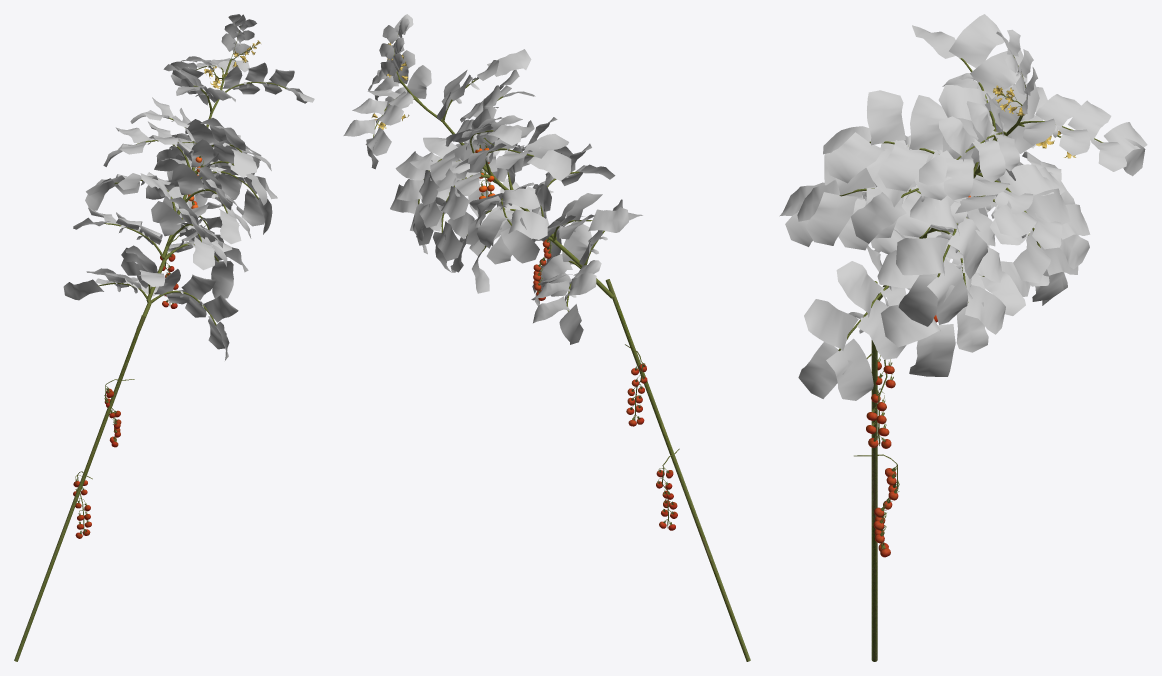
Rendered from tomato_vine_repo_v7.dae.
The picture shows the model from 3 angles, left to right: view 1: azimuth 30°, elevation 25°; view 2: azimuth 150°, elevation 25°; view 3: azimuth 270°, elevation 25°; orthographic projection. The views are drawn at different scales.
Parts seen in each view (by area): view 1: Leaf1, Branch1, Sphere.001; view 2: Leaf1, Branch1, Sphere.001; view 3: Leaf1, Branch1, Sphere.001.
Part boxes in pixels (left/top/right/bottom): Leaf1: left=63, top=14, right=314, bottom=360; Branch1: left=14, top=26, right=286, bottom=661; Sphere.001: left=73, top=254, right=178, bottom=538; Leaf1: left=343, top=14, right=642, bottom=344; Branch1: left=373, top=34, right=750, bottom=661; Sphere.001: left=533, top=239, right=677, bottom=530; Leaf1: left=779, top=14, right=1147, bottom=400; Branch1: left=838, top=55, right=1103, bottom=661; Sphere.001: left=866, top=315, right=937, bottom=557.
Size of the model in its own units: 1.53 by 1.02 by 2.52.
